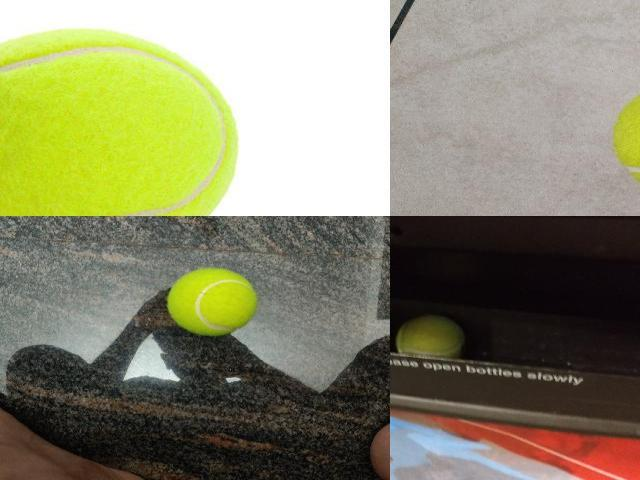tennis-ball: (0, 28, 238, 215), (166, 267, 258, 336), (396, 314, 466, 358), (611, 102, 640, 182)
